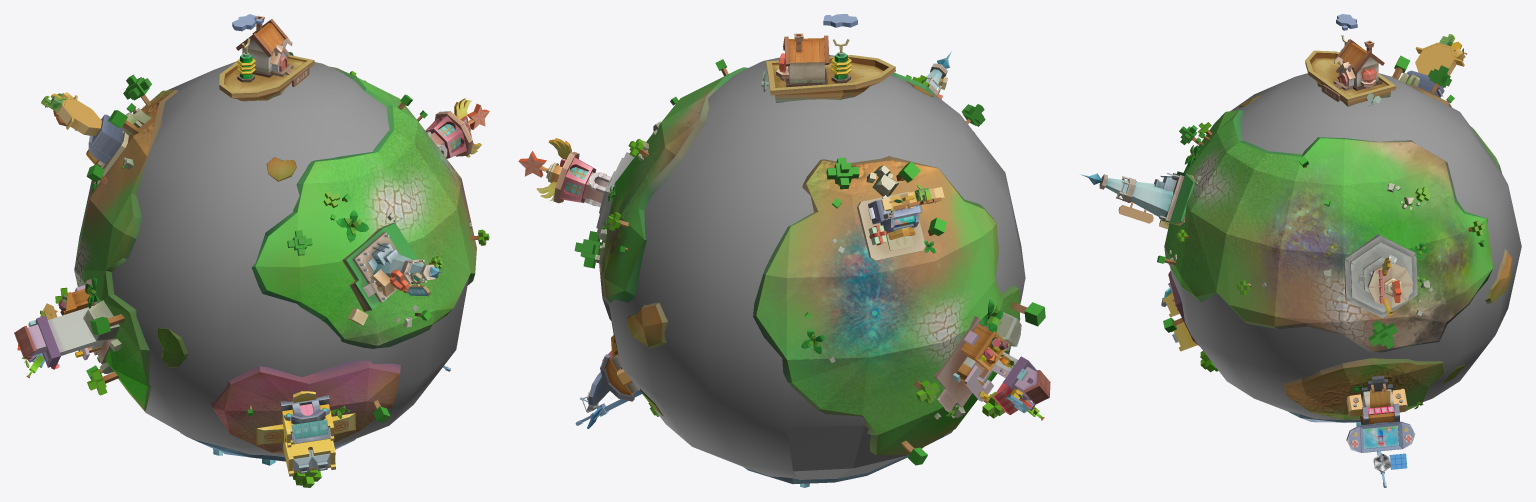
The model's file is diqiu.FBX.
3 views of the same model, side by side, from view 1: azimuth 30°, elevation 25°; view 2: azimuth 150°, elevation 25°; view 3: azimuth 270°, elevation 25° (orthographic). The views are drawn at different scales.
Parts seen in each view (by area): view 1: hailang, diqiu, xiwangdengta, aixingongfang, jiaoyoudating, duihuanshangcheng, shu, xingyunxiaowu, rongyuzhanguan, shitou, guanmu; view 2: hailang, diqiu, aixingongfang, duihuanshangcheng, shu, xingyunxiaowu, rongyuzhanguan, youxidating, shitou, guanmu, xiwangdengta; view 3: diqiu, hailang, rongyuzhanguan, youxidating, aixingongfang, xiwangdengta, shu, xingyunxiaowu, shitou, jiaoyoudating.
Boxes of the visible parts, <box> form: hailang: <box>111,61,468,457</box>; diqiu: <box>74,66,476,461</box>; xiwangdengta: <box>342,223,443,325</box>; aixingongfang: <box>219,14,314,101</box>; jiaoyoudating: <box>256,391,355,476</box>; duihuanshangcheng: <box>14,279,114,378</box>; shu: <box>55,71,489,487</box>; xingyunxiaowu: <box>41,92,128,184</box>; rongyuzhanguan: <box>425,98,489,158</box>; shitou: <box>83,80,471,373</box>; guanmu: <box>85,161,369,418</box>; hailang: <box>609,55,1025,479</box>; diqiu: <box>599,67,1023,484</box>; aixingongfang: <box>761,14,895,102</box>; duihuanshangcheng: <box>933,316,1050,420</box>; shu: <box>574,59,1045,465</box>; xingyunxiaowu: <box>857,184,944,260</box>; rongyuzhanguan: <box>518,138,634,235</box>; youxidating: <box>575,335,641,428</box>; shitou: <box>594,121,1021,419</box>; guanmu: <box>601,186,1003,416</box>; xiwangdengta: <box>919,51,951,99</box>; diqiu: <box>1164,83,1512,422</box>; hailang: <box>1170,73,1521,419</box>; rongyuzhanguan: <box>1344,234,1417,317</box>; youxidating: <box>1346,375,1415,487</box>; aixingongfang: <box>1305,14,1396,106</box>; xiwangdengta: <box>1080,171,1195,229</box>; shu: <box>1157,55,1486,425</box>; xingyunxiaowu: <box>1406,34,1466,97</box>; shitou: <box>1169,72,1432,315</box>; jiaoyoudating: <box>1161,282,1197,351</box>.
Bounding box in the file's own units: 6468 × 5504 × 5840.
Materials: 13 (12 with a texture image).
